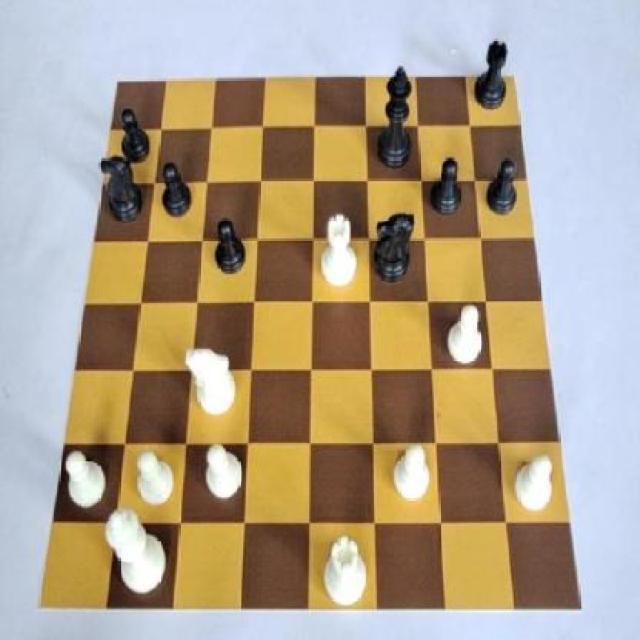black-bishop: (374, 65, 416, 172)
black-king: (369, 208, 418, 288), (95, 155, 148, 227)
black-knight: (152, 160, 198, 225), (205, 218, 250, 281), (484, 148, 518, 224), (118, 108, 154, 175), (428, 154, 463, 218)
black-queen: (469, 32, 518, 123)
white-bishop: (102, 502, 174, 602)
white-king: (182, 343, 240, 431)
white-knight: (62, 445, 110, 519), (440, 298, 488, 367), (388, 440, 436, 507), (199, 443, 246, 507), (514, 452, 556, 518), (135, 448, 180, 509)
white-queen: (317, 534, 375, 612), (316, 208, 362, 295)
